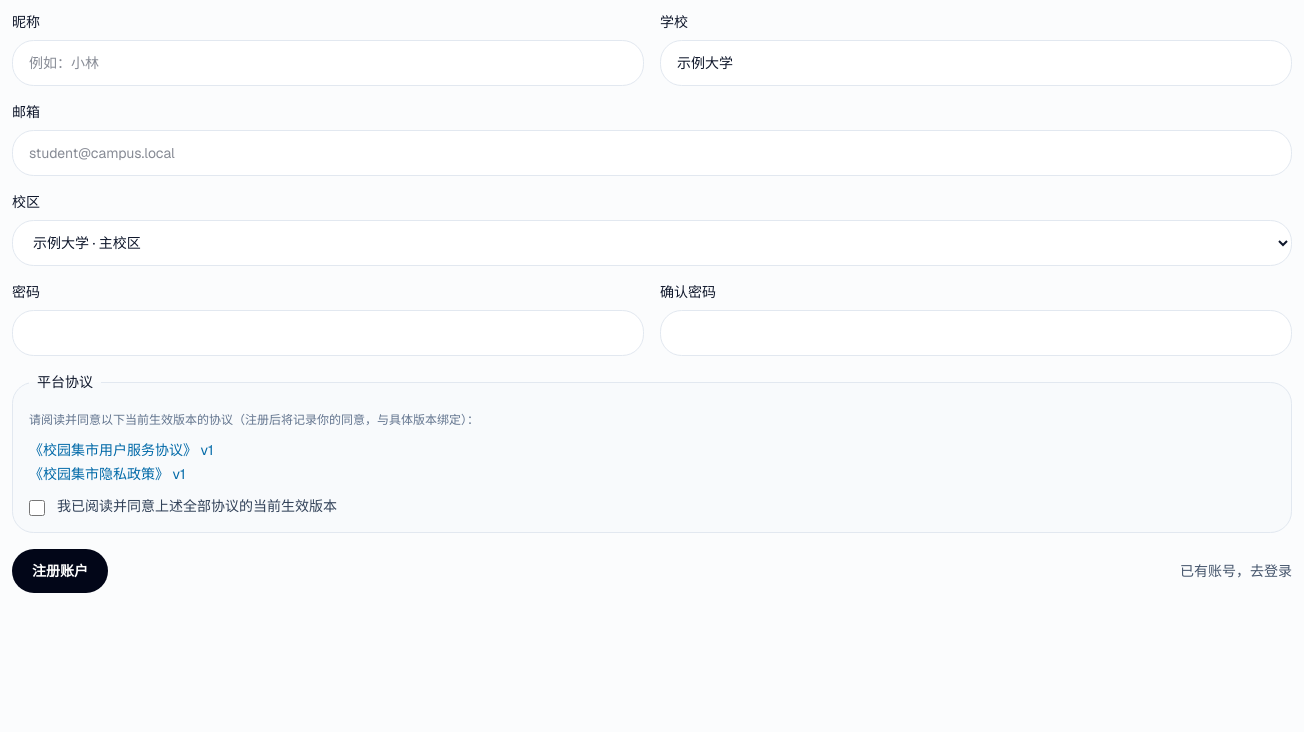
Test: RegisterForm › syncs the school field with the selected campus
Select "另一所大学 · 南校区" in the dropdown showing "示例大学 · 主校区" at point(652, 243), box [12,220,1292,266]
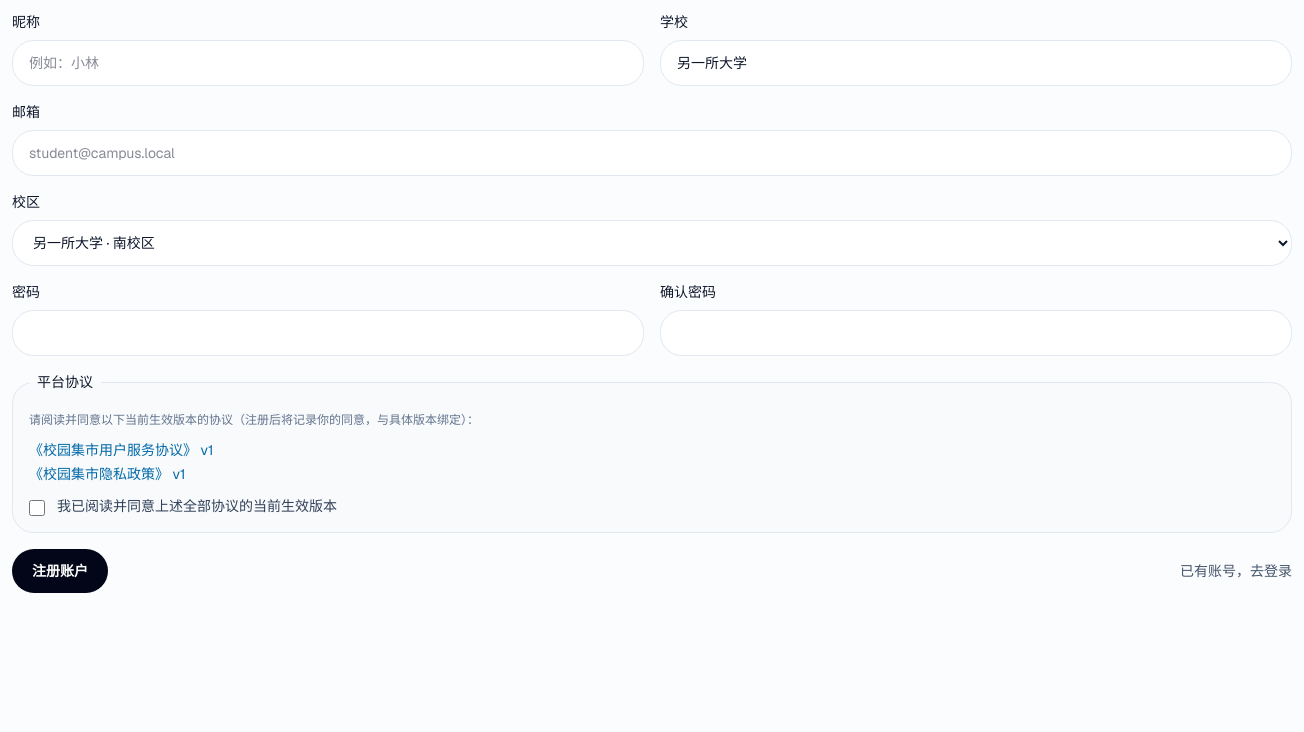
Now the field showing "另一所大学" is shown, box [660,40,1292,86]
